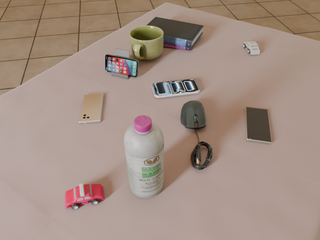book: (147, 17, 203, 49)
bottle: (124, 115, 164, 198)
cup: (129, 25, 164, 60)
mouse: (181, 100, 206, 133)
phone: (246, 107, 272, 143), (152, 79, 200, 98), (105, 54, 138, 77), (79, 94, 104, 123)
toy_car: (65, 183, 104, 210), (243, 41, 260, 55)
